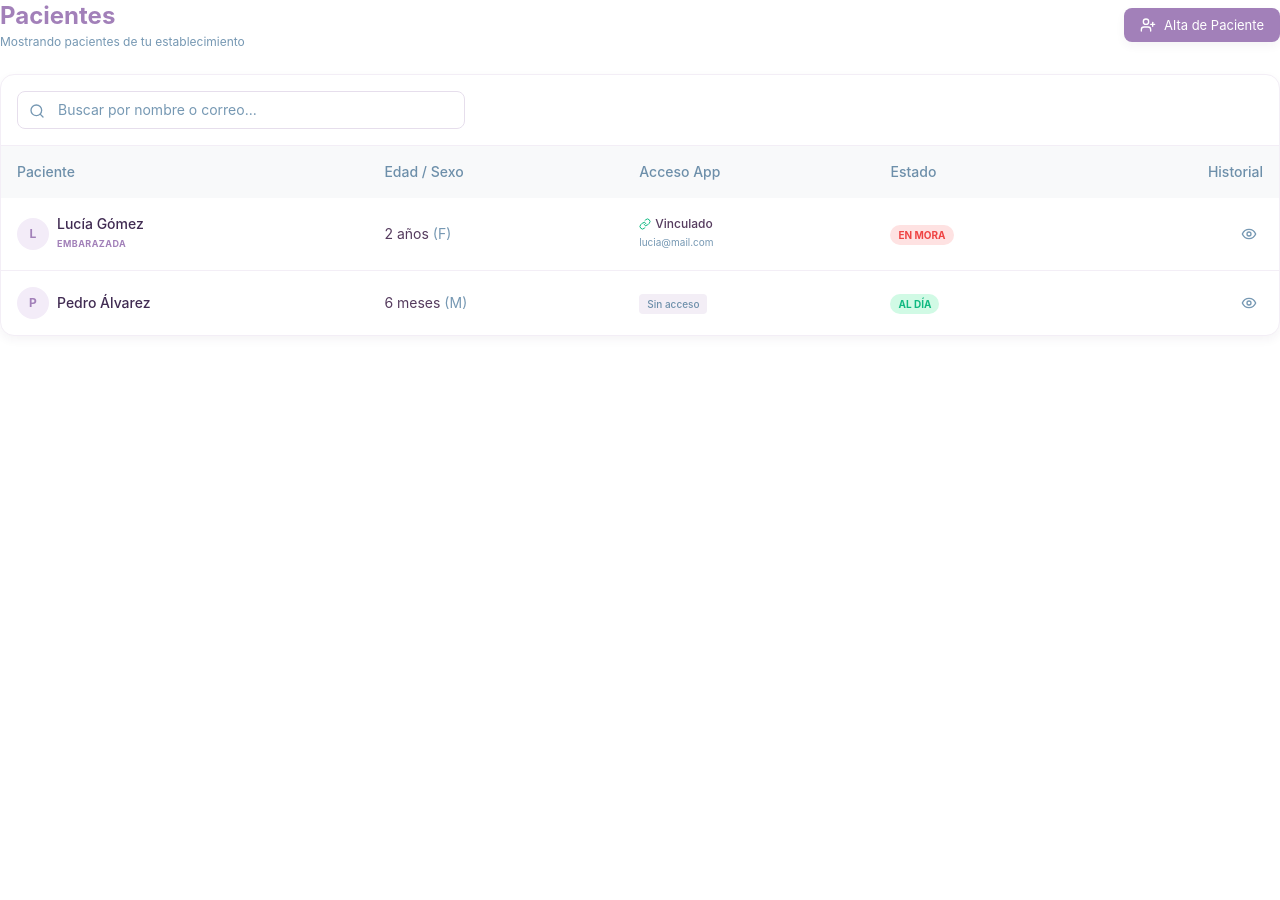
Test: PatientsView – historial de vacunación › muestra mensaje si no hay dosis registradas
The image size is (1280, 900).
Click the button titled "Ver historial" in the row of "Lucía Gómez": (1249, 234) top-left (1235, 220), bottom-right (1263, 248)
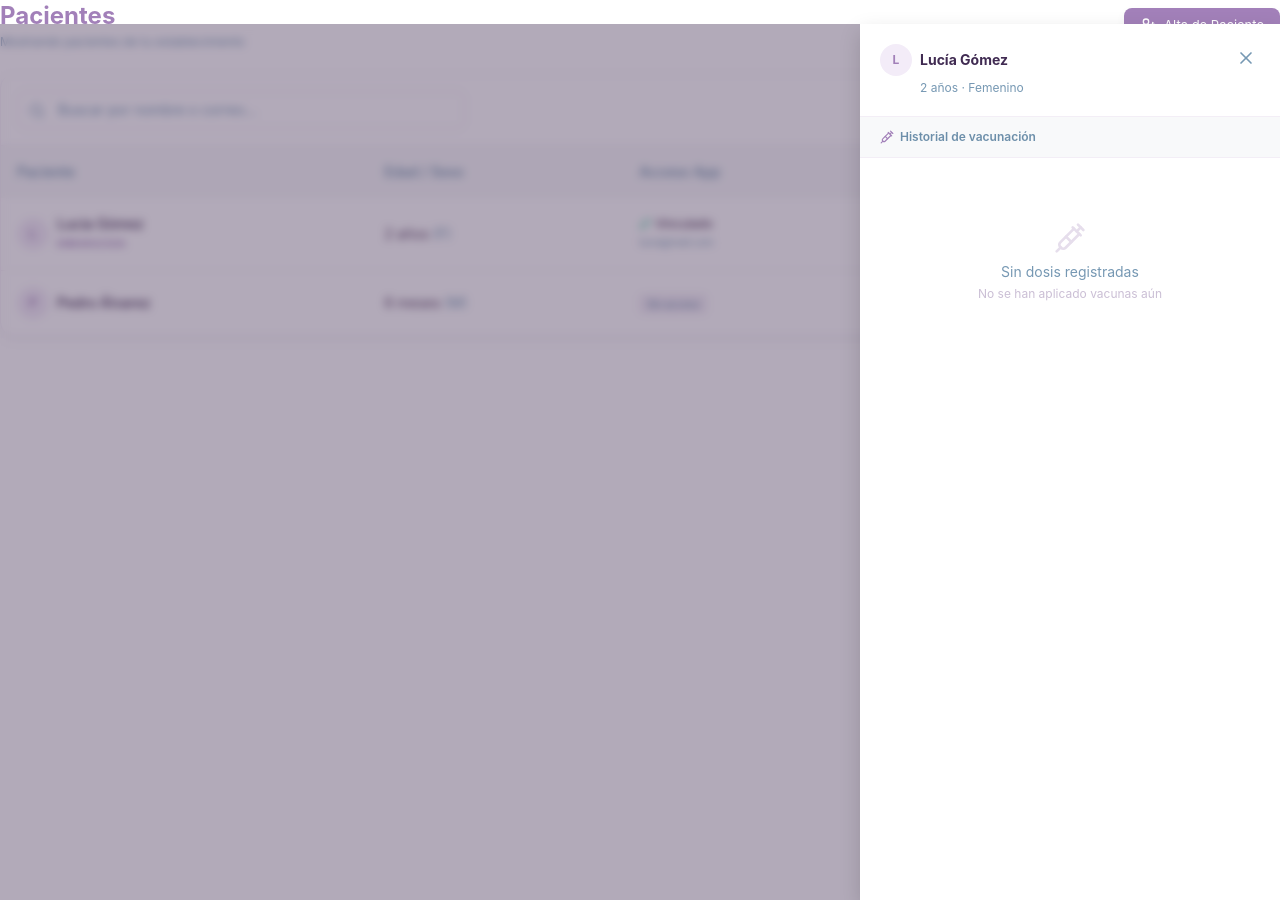
Check: the text "Sin dosis registradas" is shown, box top-left (1001, 262), bottom-right (1139, 282)
